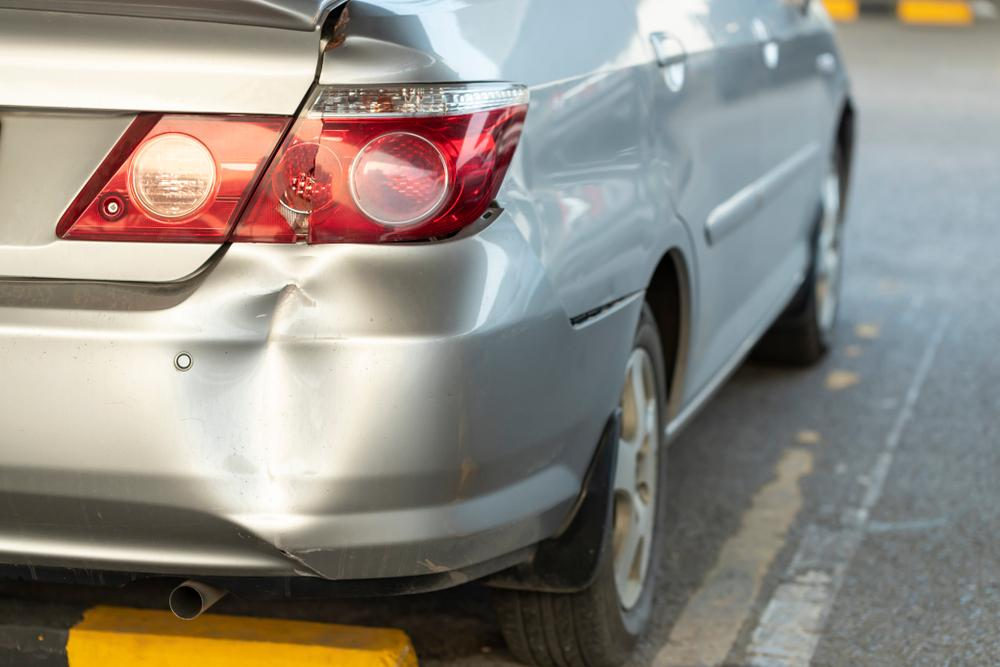dent: (173, 282, 370, 541), (509, 66, 691, 259), (326, 1, 430, 76)
lamp broken: (225, 80, 532, 249)
